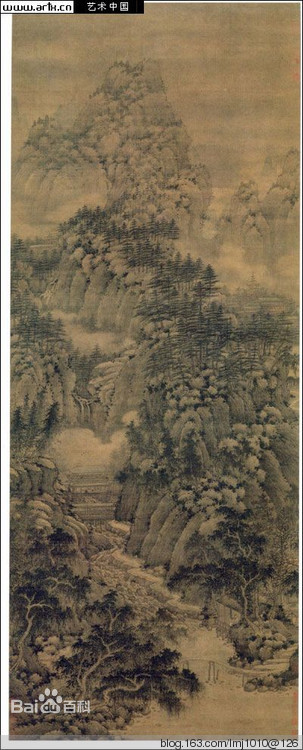booth: (217, 596, 243, 636)
bridge: (176, 655, 270, 687)
creek: (186, 636, 268, 729)
house: (69, 470, 120, 524), (30, 240, 59, 268)
pine: (154, 284, 272, 355), (90, 222, 172, 270)
range: (85, 103, 283, 564)
tree: (59, 617, 157, 714), (18, 527, 71, 676)
waterfall: (69, 392, 98, 434)
